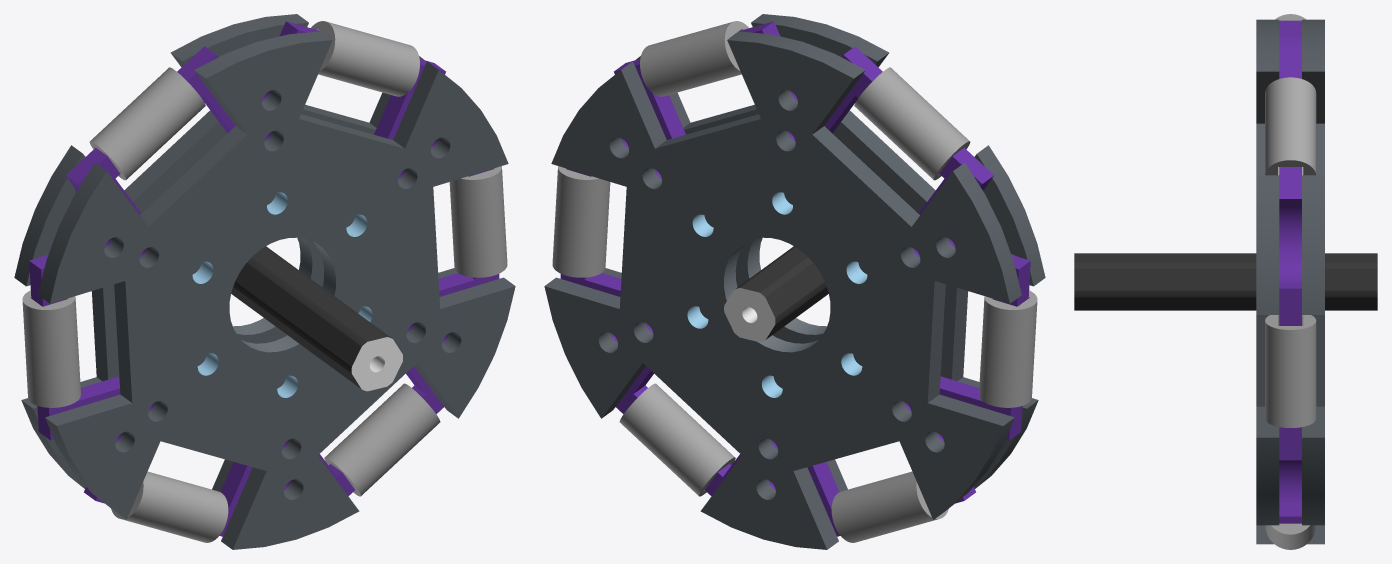
3 views of the same model, side by side, from view 1: azimuth 30°, elevation 25°; view 2: azimuth 150°, elevation 25°; view 3: azimuth 270°, elevation 25° (orthographic). The views are drawn at different scales.
Visible parts, largest first — view 1: Part 7 (×2), Part 8 (×6), 1/2" Rounded Hex (2.875" L, 13.75mm OD), Part 2, Part 1, Part 3, Part 5, Part 4, Part 6; view 2: Part 7 (×2), Part 8 (×6), 1/2" Rounded Hex (2.875" L, 13.75mm OD), Part 2, Part 1, Part 3, Part 5, Part 4, Part 6; view 3: Part 7 (×2), 1/2" Rounded Hex (2.875" L, 13.75mm OD), Part 8 (×3), Part 6, Part 5, Part 1.
Boxes of the visible parts, x1,y1,x2,y2 form: Part 7 (×2): (14,14,515,549); Part 8 (×6): (22,21,507,542); 1/2" Rounded Hex (2.875" L, 13.75mm OD): (231,246,402,391); Part 2: (29,147,146,306); Part 1: (177,21,329,141); Part 3: (37,376,155,503); Part 5: (406,273,499,413); Part 4: (219,440,354,536); Part 6: (374,59,492,178); Part 7 (×2): (544,14,1045,549); Part 8 (×6): (552,21,1037,542); 1/2" Rounded Hex (2.875" L, 13.75mm OD): (724,246,828,342); Part 2: (913,147,1030,306); Part 1: (730,21,882,141); Part 3: (904,376,1022,503); Part 5: (560,273,653,413); Part 4: (705,440,840,536); Part 6: (567,59,685,178); Part 7 (×2): (1256,19,1324,544); 1/2" Rounded Hex (2.875" L, 13.75mm OD): (1074,253,1377,310); Part 8 (×3): (1265,77,1316,549); Part 6: (1279,167,1301,325); Part 5: (1279,427,1301,523); Part 1: (1279,20,1301,78).
Size of the model in its own units: 0.1279 by 0.1278 by 0.073.
